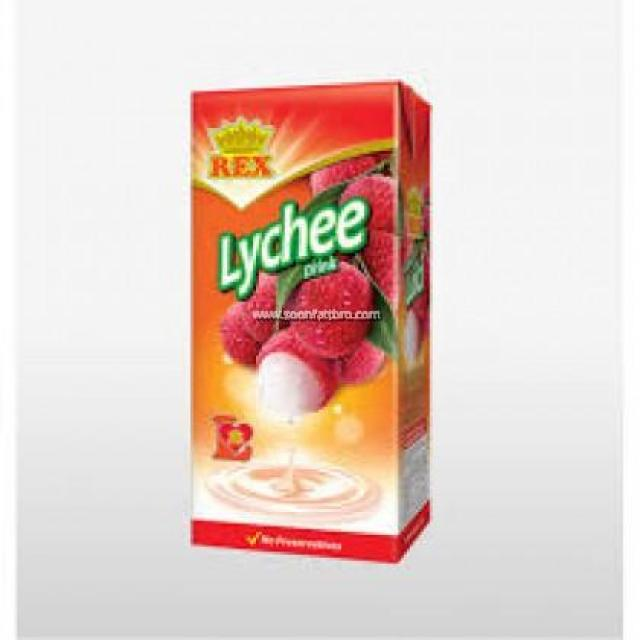drink carton: (189, 82, 430, 564)
